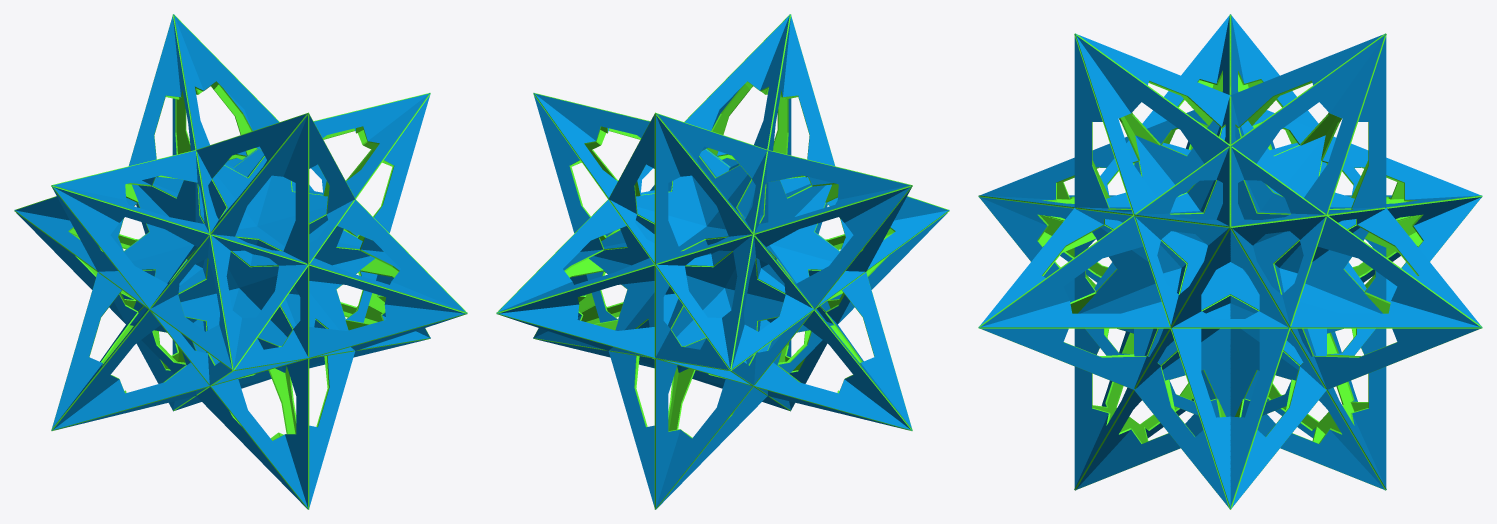
Rendered from GreatIcosahedronS1.glb.
3 renders of one model, left to right at view 1: azimuth 30°, elevation 25°; view 2: azimuth 150°, elevation 25°; view 3: azimuth 270°, elevation 25°, orthographic. The views are drawn at different scales.
Parts seen in each view (by area): view 1: Mesh_0.004; view 2: Mesh_0.004; view 3: Mesh_0.004.
Part boxes in pixels (bbox=[...]): Mesh_0.004: bbox=[14, 14, 467, 509]; Mesh_0.004: bbox=[496, 14, 949, 509]; Mesh_0.004: bbox=[978, 14, 1482, 509].
Size of the model in its own units: 7.5 by 7.5 by 7.5.
